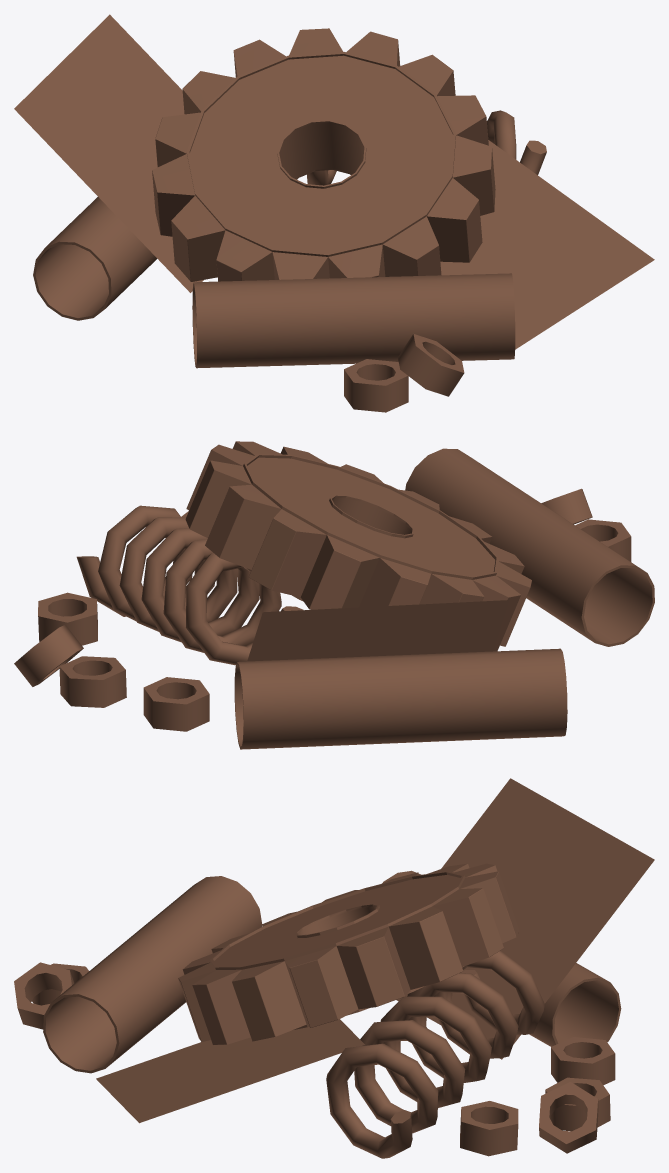
File: bombResource.FBX
3 renders of one model, top to bottom at view 1: azimuth 30°, elevation 25°; view 2: azimuth 150°, elevation 25°; view 3: azimuth 270°, elevation 25°, orthographic. The views are drawn at different scales.
Visible parts, largest first — view 1: o_resourceBomb; view 2: o_resourceBomb; view 3: o_resourceBomb.
Part boxes in pixels (x1=…): o_resourceBomb: x1=14, y1=14, x2=654, y2=412; o_resourceBomb: x1=14, y1=441, x2=654, y2=749; o_resourceBomb: x1=14, y1=778, x2=654, y2=1158.
Bounding box in the file's own units: 1.89 × 0.7089 × 2.12.
